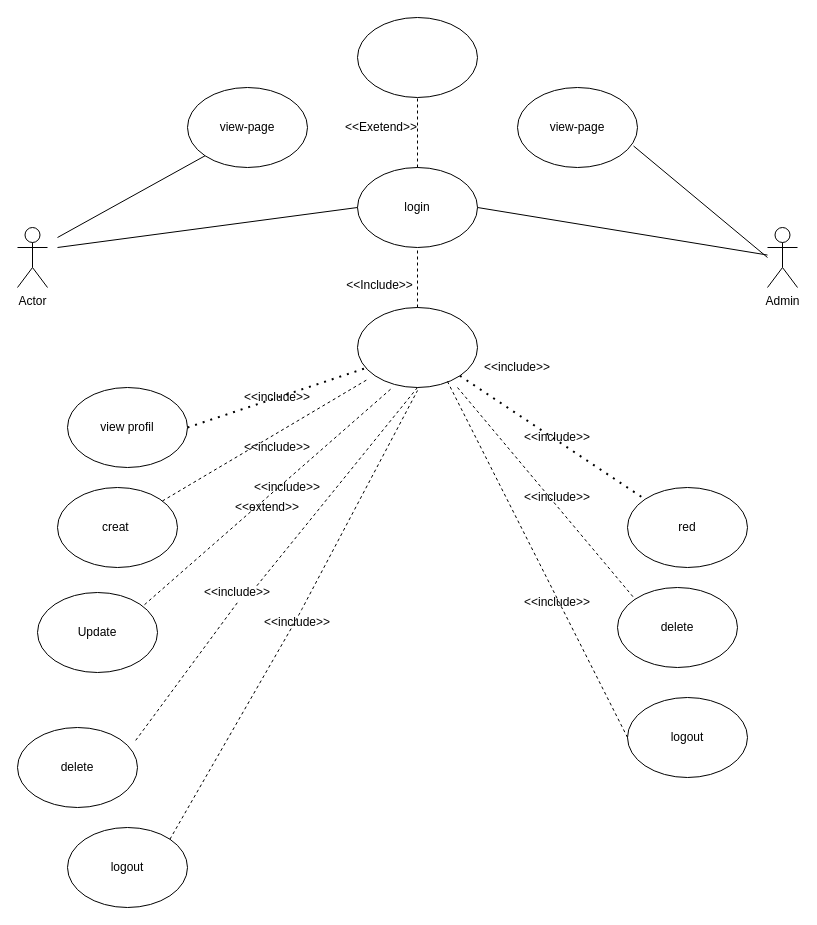
The diagram is 817 pixels wide and 925 high, and some of its shapes have lost their labels. Each missing label, with the box of its shape:
Home: (356, 306, 478, 388)
inscription: (356, 16, 478, 98)
